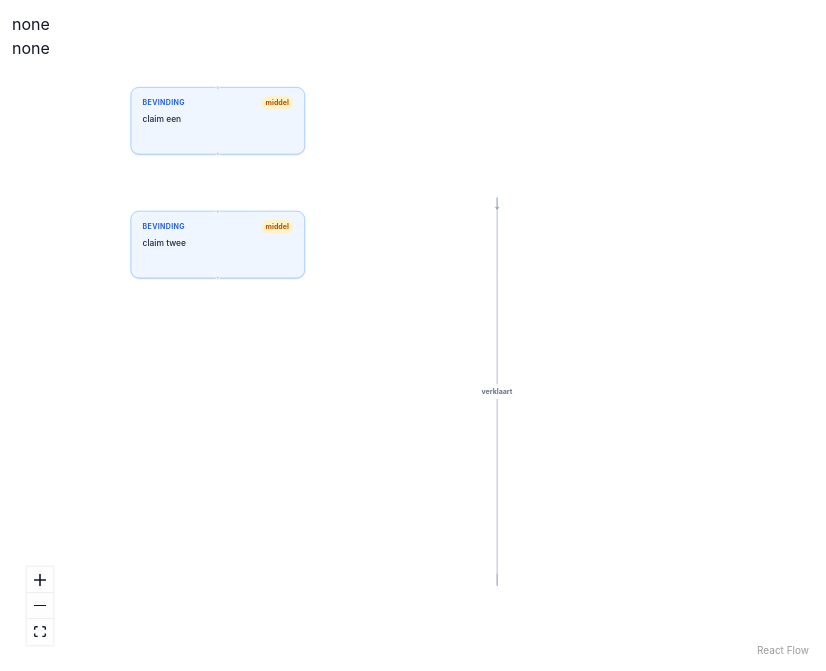
it: GraphView — selection switching › clicking the canvas background clears the selection
Click the element with test id "graph-node-n1" at (218, 121), box [131, 87, 305, 154]
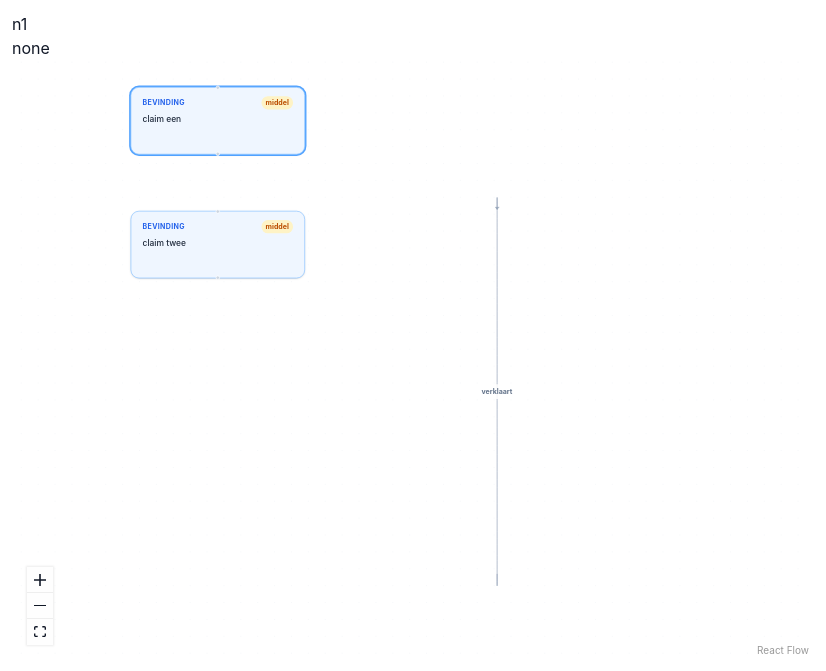
Expected: the text with test id "selected-probe" reads "n1", [12, 14, 27, 34]
Click the element with class "react-flow__pane" at (236, 183), box [131, 87, 342, 278]
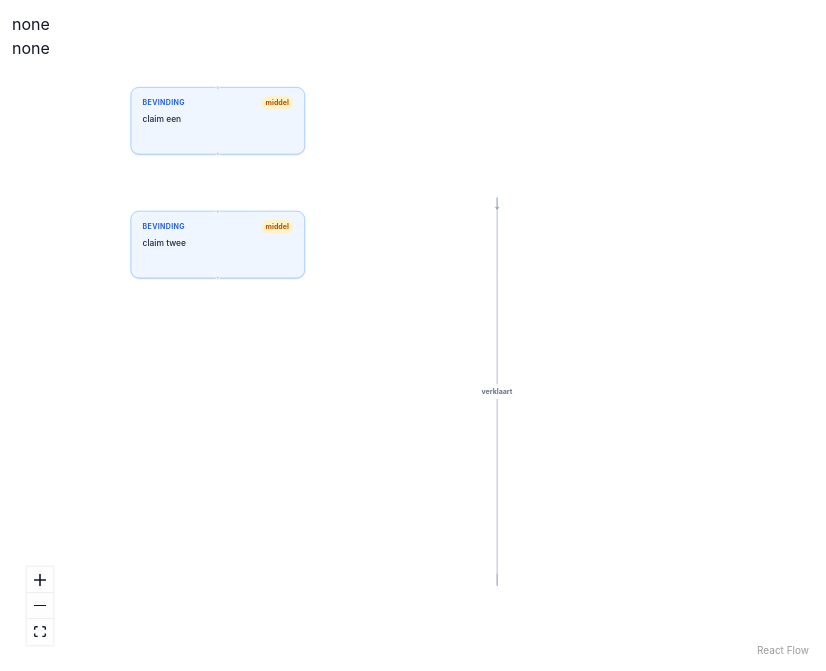
Expected: the text with test id "selected-probe" reads "none", [12, 14, 50, 34]
